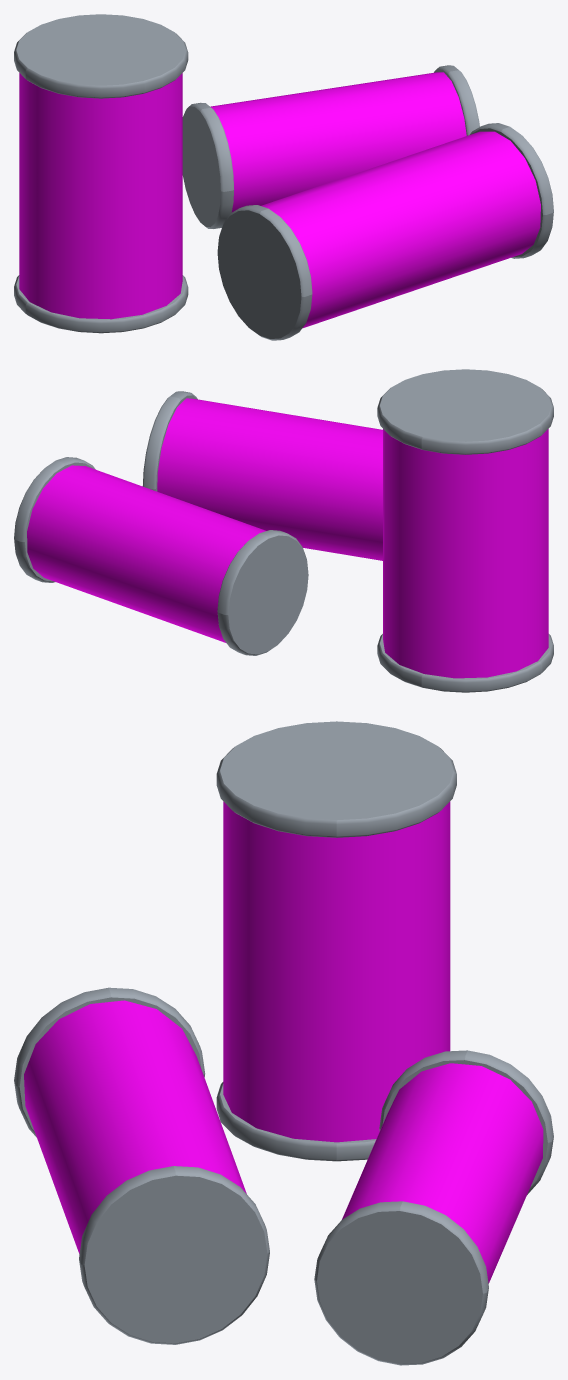
Rendered from objet_isolant.glb.
3 views of the same model, one above another, from view 1: azimuth 30°, elevation 25°; view 2: azimuth 150°, elevation 25°; view 3: azimuth 270°, elevation 25° (orthographic). The views are drawn at different scales.
Visible parts, largest first — view 1: isolant_teinte.002, isolant_acier_doux.002; view 2: isolant_teinte.002, isolant_acier_doux.002; view 3: isolant_teinte.002, isolant_acier_doux.002.
Boxes of the visible parts, x1,y1,x2,y2 form: isolant_teinte.002: (19, 72, 540, 328); isolant_acier_doux.002: (14, 14, 553, 340); isolant_teinte.002: (27, 398, 548, 678); isolant_acier_doux.002: (14, 369, 553, 692); isolant_teinte.002: (24, 801, 543, 1283); isolant_acier_doux.002: (14, 721, 553, 1365).
Size of the model in its own units: 0.2296 by 0.116 by 0.1664.
